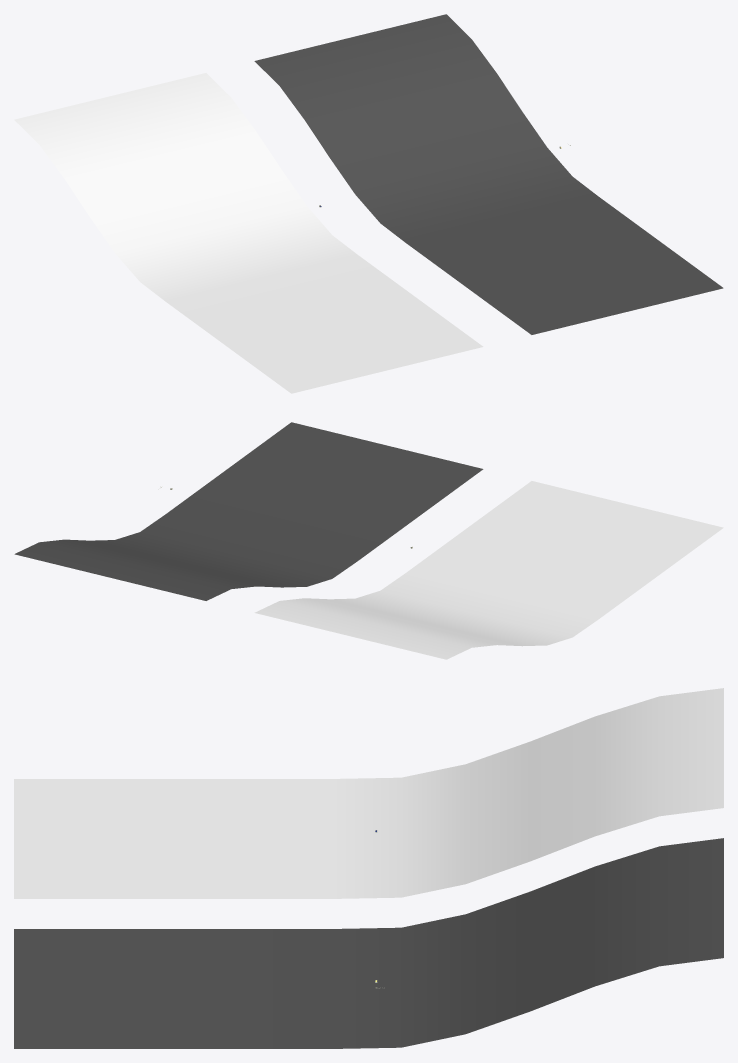
The model's file is Bathroom.fbx.
The picture shows the model from 3 angles, top to bottom: view 1: azimuth 30°, elevation 25°; view 2: azimuth 150°, elevation 25°; view 3: azimuth 270°, elevation 25°; orthographic projection. The views are drawn at different scales.
Visible parts, largest first — view 1: FloorDistant.003, FloorDistant.002; view 2: FloorDistant.002, FloorDistant.003; view 3: FloorDistant.002, FloorDistant.003.
Boxes of the visible parts, <box> form: FloorDistant.003: <box>14,73,483,393</box>; FloorDistant.002: <box>254,14,723,334</box>; FloorDistant.002: <box>14,422,483,600</box>; FloorDistant.003: <box>254,481,723,659</box>; FloorDistant.002: <box>14,838,723,1048</box>; FloorDistant.003: <box>14,688,723,898</box>.
Size of the model in its own units: 90000 by 14119 by 100000.
23 materials, 3 textured.
